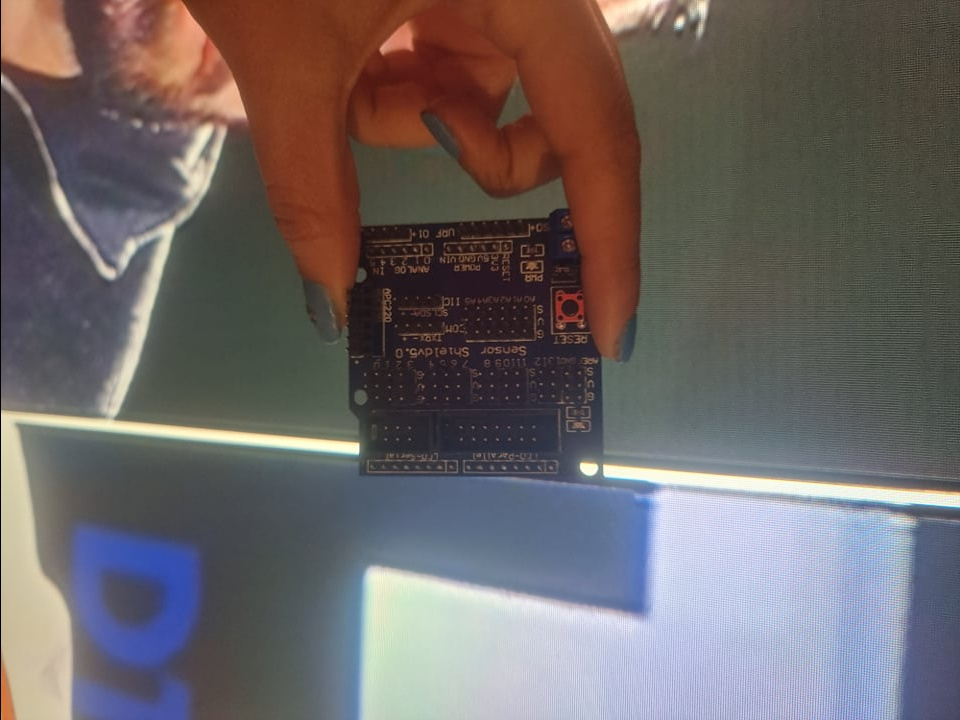5V EXPANSION: (343, 196, 610, 482)
